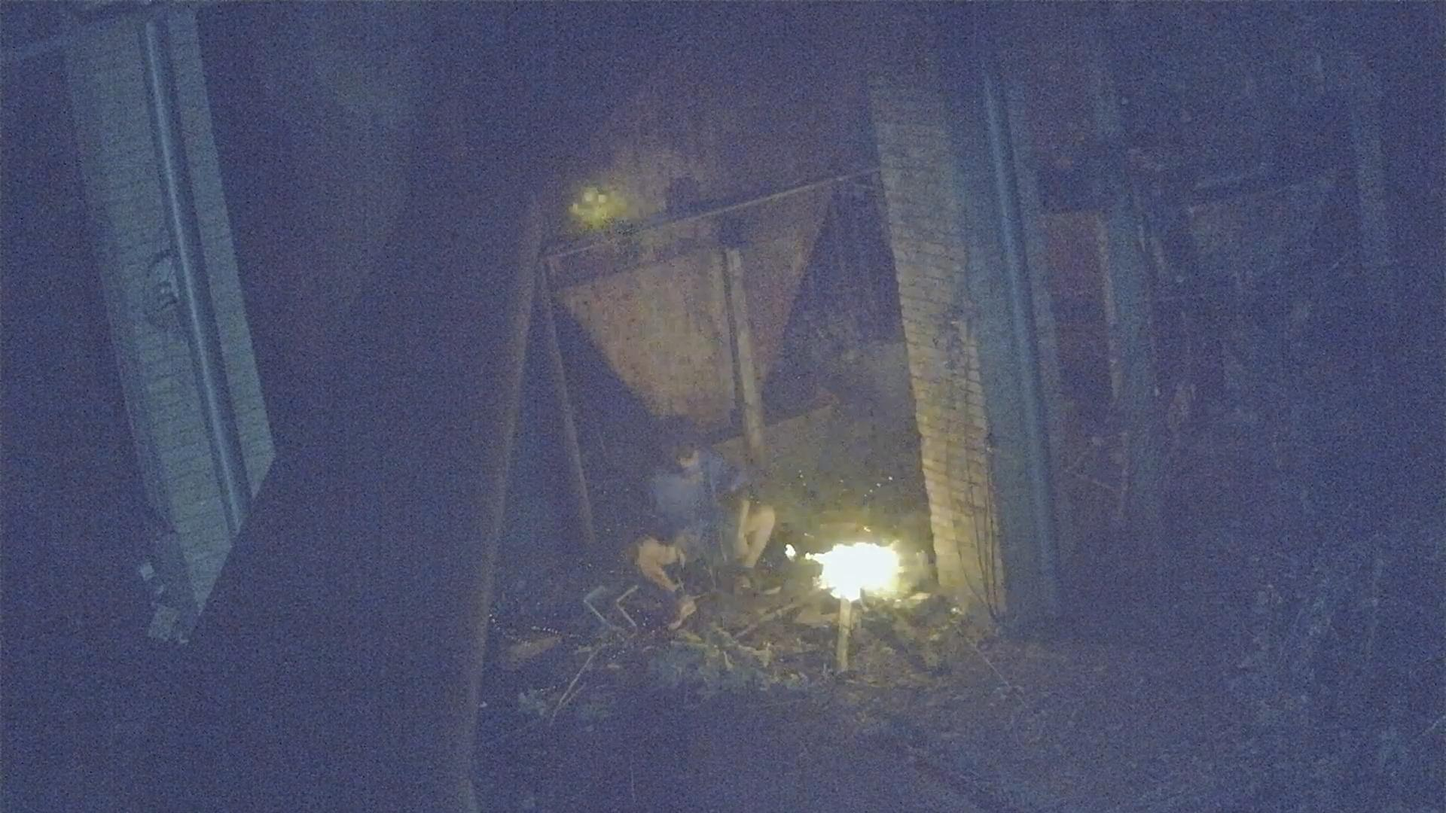fire: (816, 542, 899, 603)
